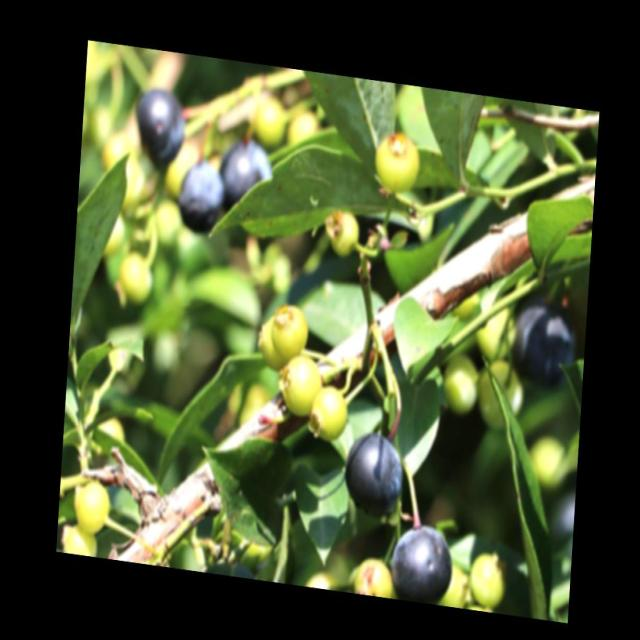blueberry: (341, 429, 406, 521), (388, 518, 453, 606), (216, 128, 274, 226), (507, 304, 572, 384), (176, 153, 228, 238), (136, 86, 185, 166)
blueberry-unripe: (373, 126, 421, 194), (280, 351, 322, 419), (466, 544, 508, 609), (308, 379, 349, 442), (440, 350, 478, 416), (69, 475, 110, 535), (270, 297, 310, 358), (119, 247, 154, 305), (354, 552, 395, 598), (256, 315, 284, 371)
